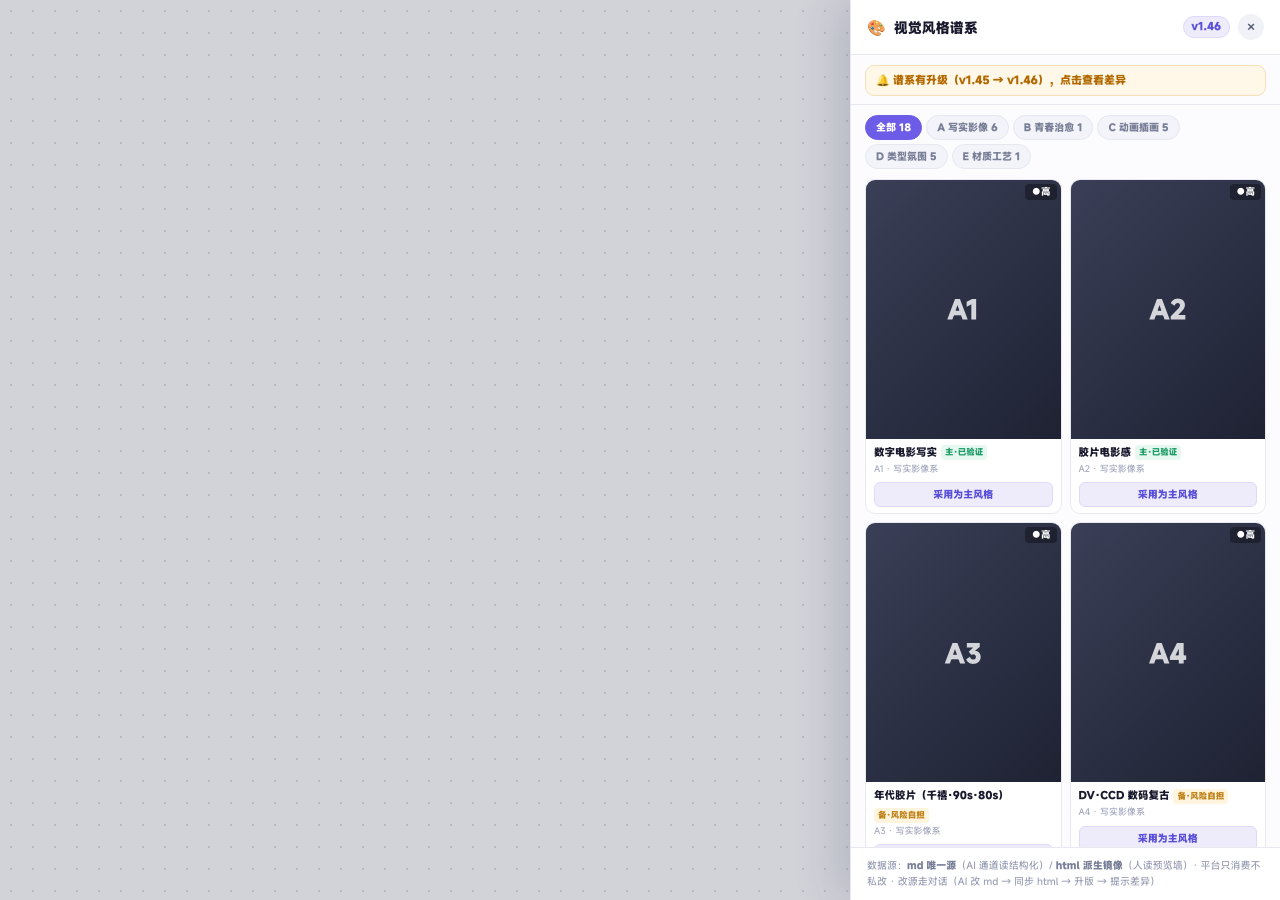
VisualCatalog 谱系升级差异工作流（feature-810 AC5） › 采纳闭环 › 采纳成功：updateBrief 写 v1.46 → 面板关闭 → 入口转「已最新」；catalog/diff 各 2 次
Click the button "🔔 谱系有升级（v1.45 → v1.46），点击查看差异": (1066, 80) [865,65,1266,96]
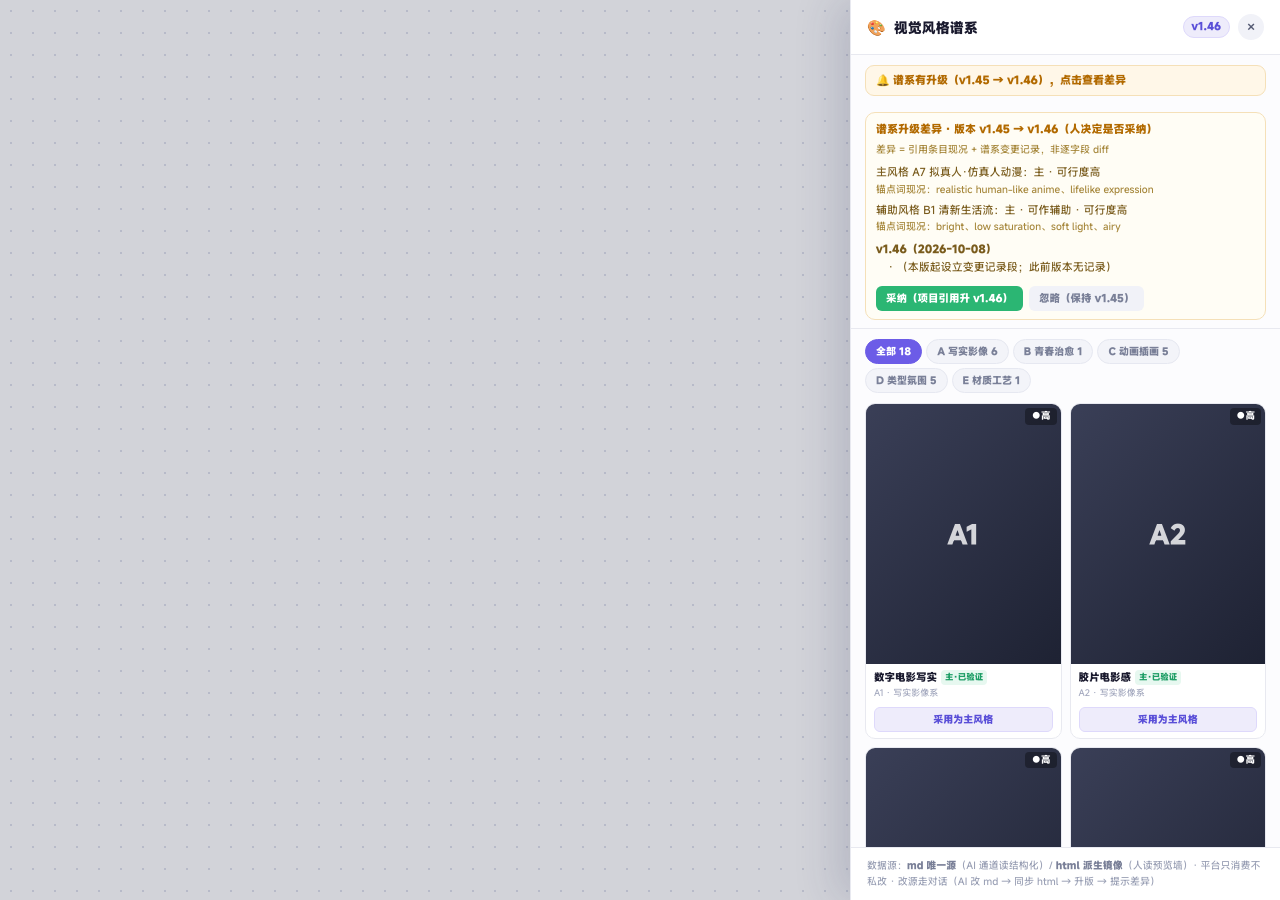
Expected: the element with test id "style-upgrade-panel" is shown, [865,112,1266,320]
Click the button with test id "style-upgrade-adopt": (950, 299) [876,286,1023,311]
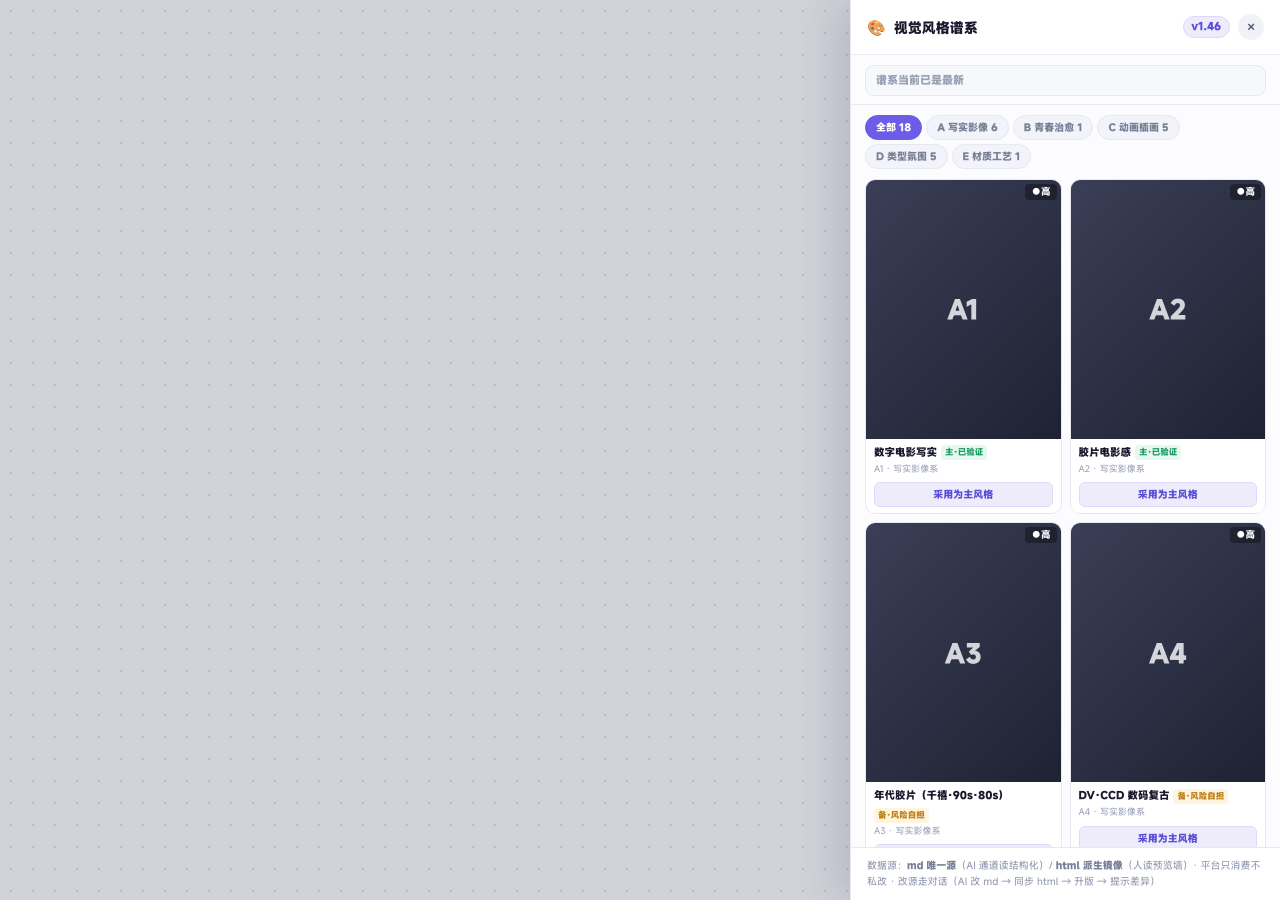
Expected: the element with test id "style-upgrade-panel" is gone
Expected: the button "谱系当前已是最新" is disabled, [865,65,1266,96]
